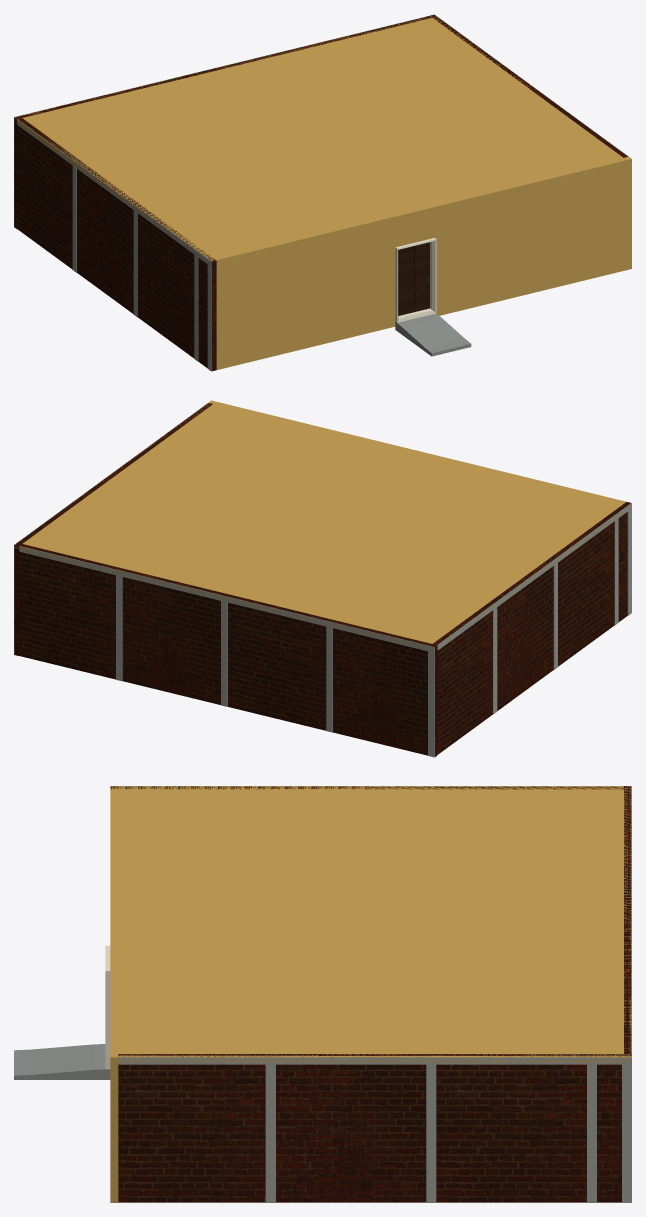
Rendered from building.glb.
The picture shows the model from 3 angles, top to bottom: view 1: azimuth 30°, elevation 25°; view 2: azimuth 150°, elevation 25°; view 3: azimuth 270°, elevation 25°; orthographic projection. The views are drawn at different scales.
Visible parts, largest first — view 1: roof/house:0/roof_slab#0001, house:0/edge0/z0/house:0/edge0/z0/wall_0_0, house:0/edge3/z0/house:0/edge3/z0/wall_0_0, entrance/rampa_corta/entrance_ramp#0001, house:0/edge2/z0/house:0/edge2/z0/wall_0_0, house:0/edge3/z0/house:0/edge3/z0/beam_0_0, house:0/edge1/z0/house:0/edge1/z0/wall_0_0, house:0/edge3/z0/house:0/edge3/z0/column_1_0, house:0/edge3/z0/house:0/edge3/z0/column_3_0, house:0/edge3/z0/house:0/edge3/z0/column_4_0, house:0/edge3/z0/house:0/edge3/z0/column_2_0; view 2: roof/house:0/roof_slab#0001, house:0/edge2/z0/house:0/edge2/z0/wall_0_0, house:0/edge3/z0/house:0/edge3/z0/wall_0_0, house:0/edge2/z0/house:0/edge2/z0/beam_0_0, house:0/edge1/z0/house:0/edge1/z0/wall_0_0, house:0/edge0/z0/house:0/edge0/z0/wall_0_0, house:0/edge3/z0/house:0/edge3/z0/beam_0_0, house:0/edge2/z0/house:0/edge2/z0/column_1_0, house:0/edge2/z0/house:0/edge2/z0/column_2_0, house:0/edge2/z0/house:0/edge2/z0/column_3_0, house:0/edge2/z0/house:0/edge2/z0/column_4_0, house:0/edge3/z0/house:0/edge3/z0/column_2_0 (+3 smaller); view 3: roof/house:0/roof_slab#0001, house:0/edge1/z0/house:0/edge1/z0/wall_0_0, house:0/edge1/z0/house:0/edge1/z0/beam_0_0, house:0/edge0/z0/house:0/edge0/z0/wall_0_0, entrance/rampa_corta/entrance_ramp#0001, house:0/edge2/z0/house:0/edge2/z0/wall_0_0, house:0/edge1/z0/house:0/edge1/z0/column_2_0, house:0/edge1/z0/house:0/edge1/z0/column_3_0, house:0/edge1/z0/house:0/edge1/z0/column_1_0, house:0/edge1/z0/house:0/edge1/z0/column_4_0, house:0/edge3/z0/house:0/edge3/z0/wall_0_0, house:0/edge0/z0/opening_u7.00_v0.18/door_moulding#0028.
Part boxes in pixels (left/top/right/bottom): roof/house:0/roof_slab#0001: left=14, top=16, right=630, bottom=263; house:0/edge0/z0/house:0/edge0/z0/wall_0_0: left=214, top=156, right=631, bottom=369; house:0/edge3/z0/house:0/edge3/z0/wall_0_0: left=17, top=118, right=216, bottom=371; entrance/rampa_corta/entrance_ramp#0001: left=395, top=313, right=471, bottom=356; house:0/edge2/z0/house:0/edge2/z0/wall_0_0: left=14, top=16, right=431, bottom=228; house:0/edge3/z0/house:0/edge3/z0/beam_0_0: left=17, top=119, right=211, bottom=266; house:0/edge1/z0/house:0/edge1/z0/wall_0_0: left=430, top=14, right=627, bottom=157; house:0/edge3/z0/house:0/edge3/z0/column_1_0: left=207, top=264, right=211, bottom=371; house:0/edge3/z0/house:0/edge3/z0/column_3_0: left=133, top=210, right=137, bottom=317; house:0/edge3/z0/house:0/edge3/z0/column_4_0: left=194, top=255, right=198, bottom=361; house:0/edge3/z0/house:0/edge3/z0/column_2_0: left=72, top=166, right=76, bottom=272; roof/house:0/roof_slab#0001: left=14, top=401, right=631, bottom=650; house:0/edge2/z0/house:0/edge2/z0/wall_0_0: left=19, top=544, right=437, bottom=756; house:0/edge3/z0/house:0/edge3/z0/wall_0_0: left=433, top=502, right=630, bottom=754; house:0/edge2/z0/house:0/edge2/z0/beam_0_0: left=19, top=546, right=434, bottom=652; house:0/edge1/z0/house:0/edge1/z0/wall_0_0: left=14, top=403, right=212, bottom=655; house:0/edge0/z0/house:0/edge0/z0/wall_0_0: left=209, top=400, right=626, bottom=503; house:0/edge3/z0/house:0/edge3/z0/beam_0_0: left=437, top=503, right=631, bottom=650; house:0/edge2/z0/house:0/edge2/z0/column_1_0: left=428, top=651, right=434, bottom=757; house:0/edge2/z0/house:0/edge2/z0/column_2_0: left=116, top=575, right=122, bottom=681; house:0/edge2/z0/house:0/edge2/z0/column_3_0: left=221, top=601, right=227, bottom=706; house:0/edge2/z0/house:0/edge2/z0/column_4_0: left=326, top=626, right=332, bottom=732; house:0/edge3/z0/house:0/edge3/z0/column_2_0: left=493, top=607, right=497, bottom=714; roof/house:0/roof_slab#0001: left=110, top=786, right=631, bottom=1062; house:0/edge1/z0/house:0/edge1/z0/wall_0_0: left=118, top=1054, right=631, bottom=1202; house:0/edge1/z0/house:0/edge1/z0/beam_0_0: left=118, top=1057, right=631, bottom=1064; house:0/edge0/z0/house:0/edge0/z0/wall_0_0: left=110, top=789, right=118, bottom=1202; entrance/rampa_corta/entrance_ramp#0001: left=14, top=1044, right=110, bottom=1079; house:0/edge2/z0/house:0/edge2/z0/wall_0_0: left=624, top=786, right=631, bottom=1053; house:0/edge1/z0/house:0/edge1/z0/column_2_0: left=265, top=1064, right=275, bottom=1202; house:0/edge1/z0/house:0/edge1/z0/column_3_0: left=426, top=1064, right=436, bottom=1202; house:0/edge1/z0/house:0/edge1/z0/column_1_0: left=622, top=1064, right=631, bottom=1202; house:0/edge1/z0/house:0/edge1/z0/column_4_0: left=587, top=1064, right=596, bottom=1202; house:0/edge3/z0/house:0/edge3/z0/wall_0_0: left=110, top=786, right=623, bottom=789; house:0/edge0/z0/opening_u7.00_v0.18/door_moulding#0028: left=105, top=945, right=110, bottom=1069.
Size of the model in its own units: 16 by 4.12 by 15.4.
7 materials, 2 textured.
